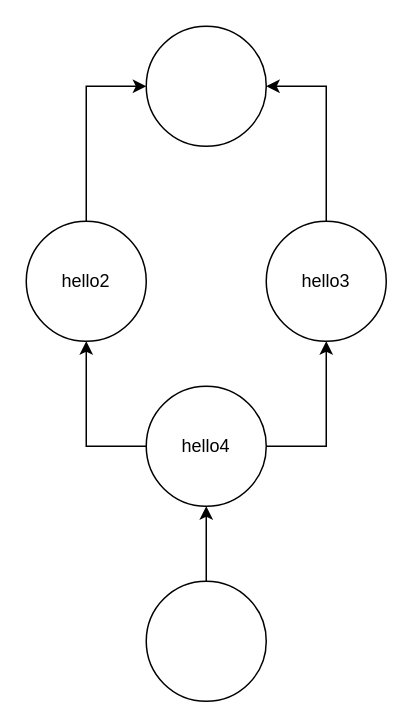
Some shapes in this 413 by 728 pixel diagram are drawn without their labels. Each missing label, with the box of its shape:
hello1: (145, 25, 266, 146)
hello5: (145, 580, 266, 701)
